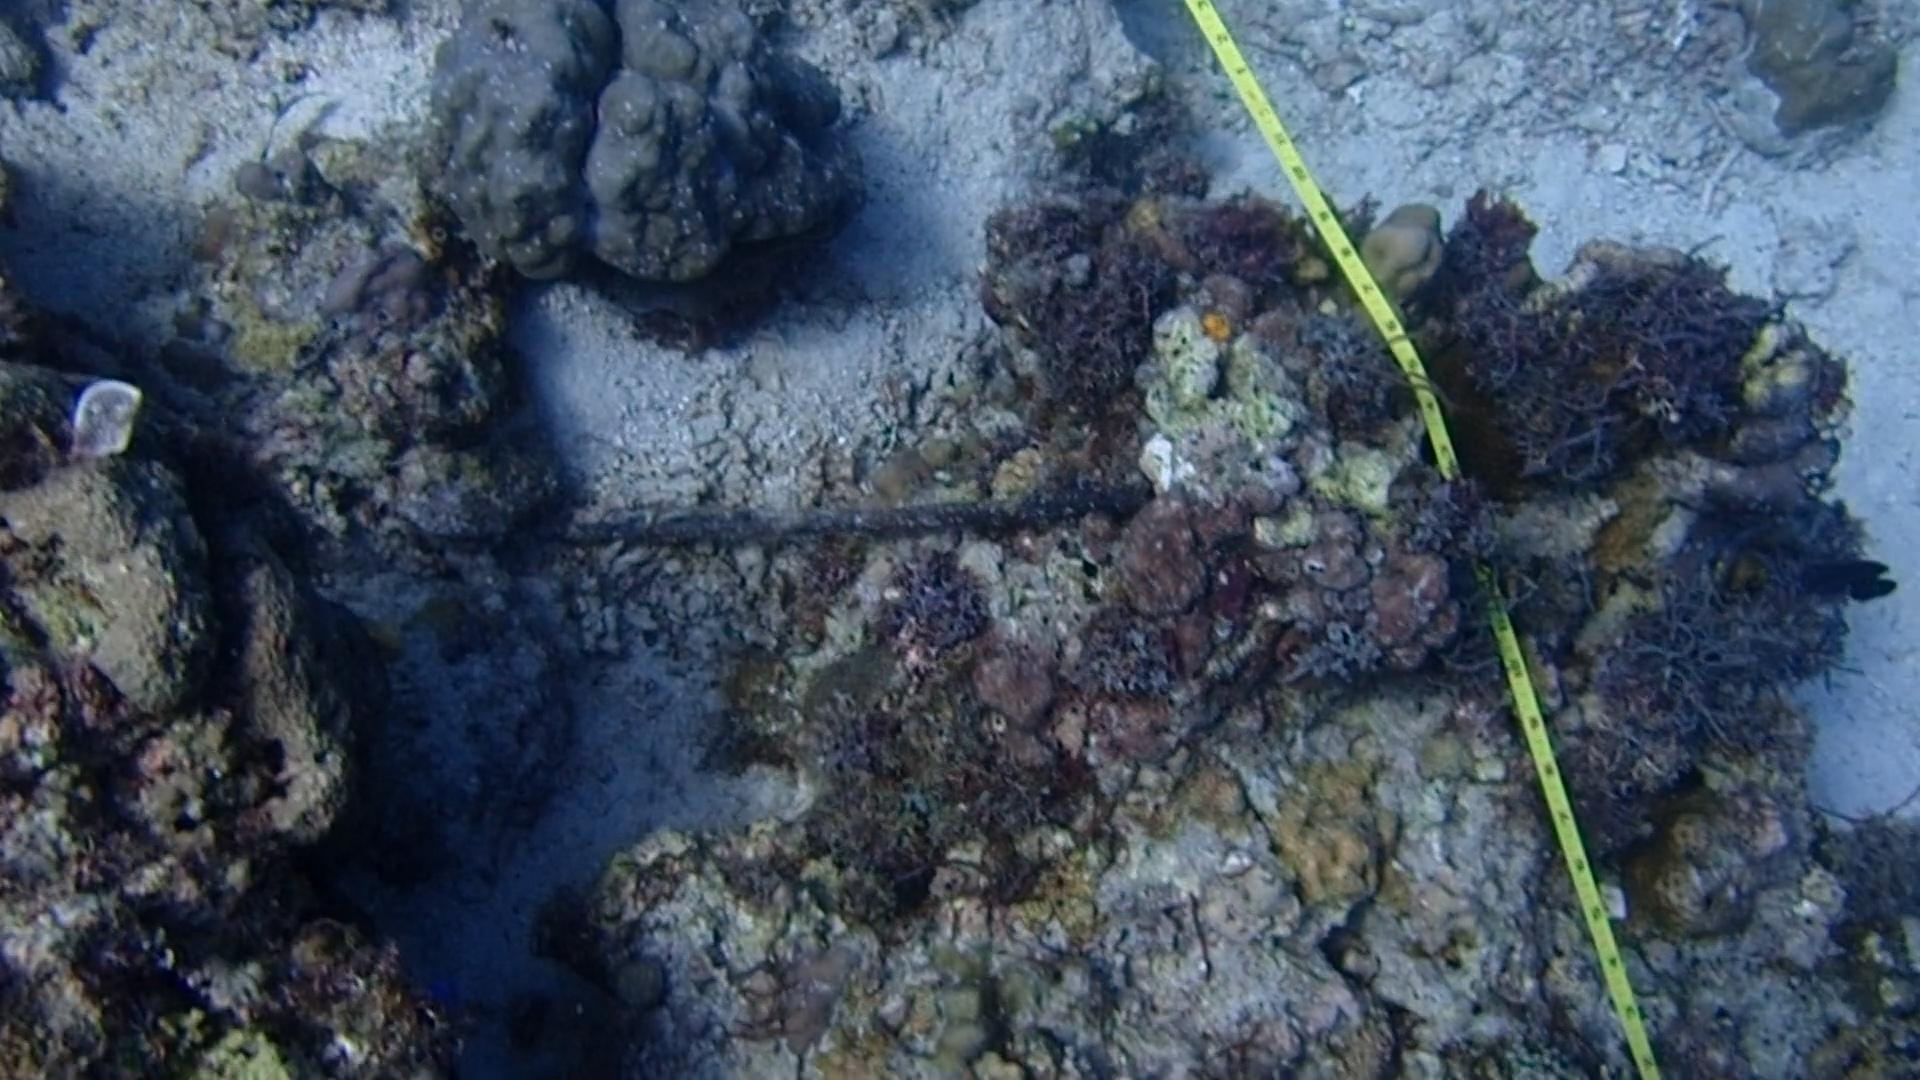Dark Fish: (1791, 543, 1912, 621)
